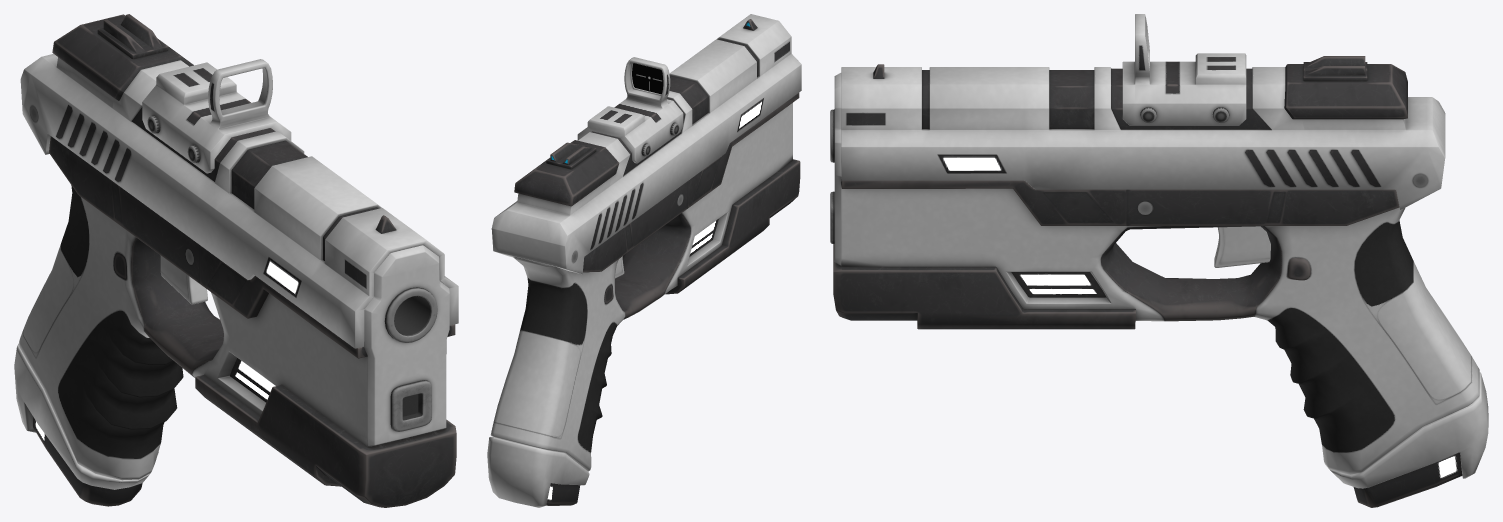
The model's file is SciFiPistol02_2.FBX.
The picture shows the model from 3 angles, left to right: view 1: azimuth 30°, elevation 25°; view 2: azimuth 150°, elevation 25°; view 3: azimuth 270°, elevation 25°; orthographic projection. The views are drawn at different scales.
Parts seen in each view (by area): view 1: SciFiPistol02_2, Slide, Scope, Clip, Trigger; view 2: SciFiPistol02_2, Slide, Clip, Scope, Dot; view 3: SciFiPistol02_2, Slide, Scope, Clip, Trigger.
Part boxes in pixels (x1,y1,x2,y2): SciFiPistol02_2: [19, 136, 456, 507]; Slide: [20, 14, 458, 348]; Scope: [142, 59, 291, 173]; Clip: [14, 343, 158, 506]; Trigger: [160, 255, 207, 304]; SciFiPistol02_2: [490, 93, 800, 471]; Slide: [491, 14, 801, 274]; Clip: [487, 437, 589, 507]; Scope: [577, 57, 683, 163]; Dot: [632, 63, 663, 94]; SciFiPistol02_2: [830, 73, 1479, 474]; Slide: [841, 56, 1445, 209]; Scope: [1122, 14, 1246, 125]; Clip: [1328, 372, 1488, 507]; Trigger: [1214, 226, 1270, 267].
Size of what is drawn, in the model's own units: 0.0417 by 0.2028 by 0.2535.
